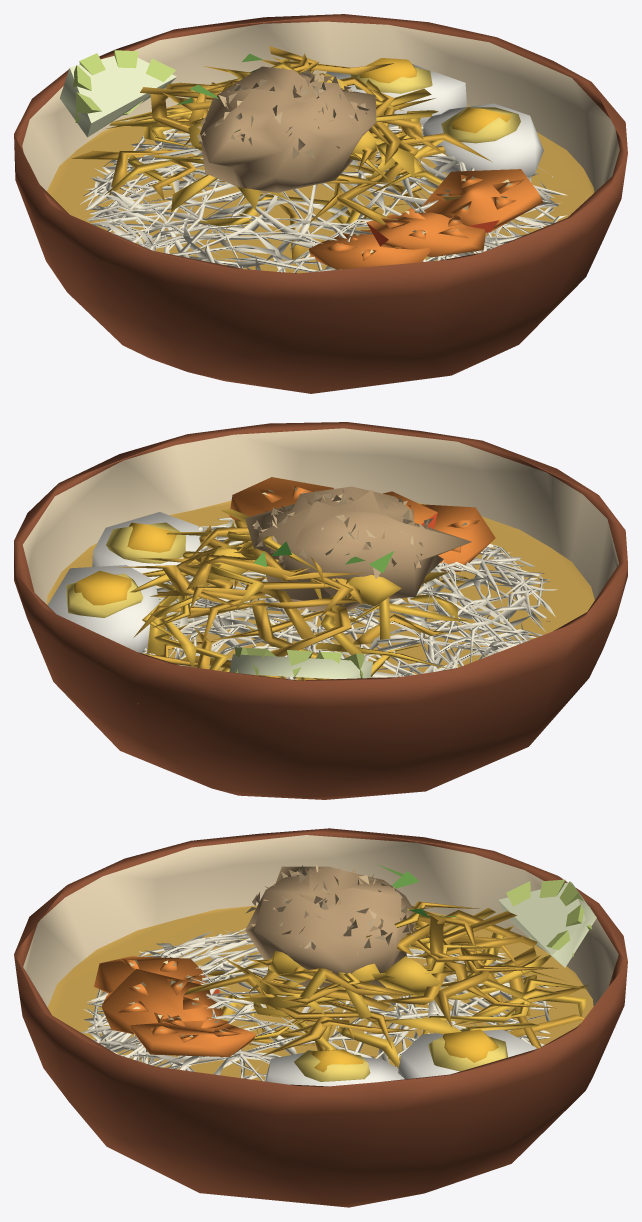
Rendered from soto lamongan low poly.fbx.
3 views of the same model, one above another, from view 1: azimuth 30°, elevation 25°; view 2: azimuth 150°, elevation 25°; view 3: azimuth 270°, elevation 25° (orthographic).
Visible parts, largest first — view 1: Soto_Lamongan_Isi.001; view 2: Soto_Lamongan_Isi.001; view 3: Soto_Lamongan_Isi.001.
Part boxes in pixels (<box>): Soto_Lamongan_Isi.001: <box>14,14,627,393</box>; Soto_Lamongan_Isi.001: <box>14,422,627,799</box>; Soto_Lamongan_Isi.001: <box>14,828,627,1207</box>.
Bounding box in the file's own units: 20.94 × 9.06 × 20.94.
